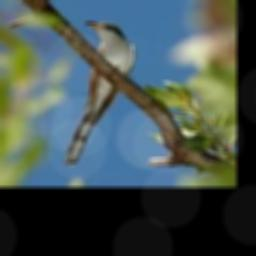Cuckoo: (65, 20, 135, 166)
